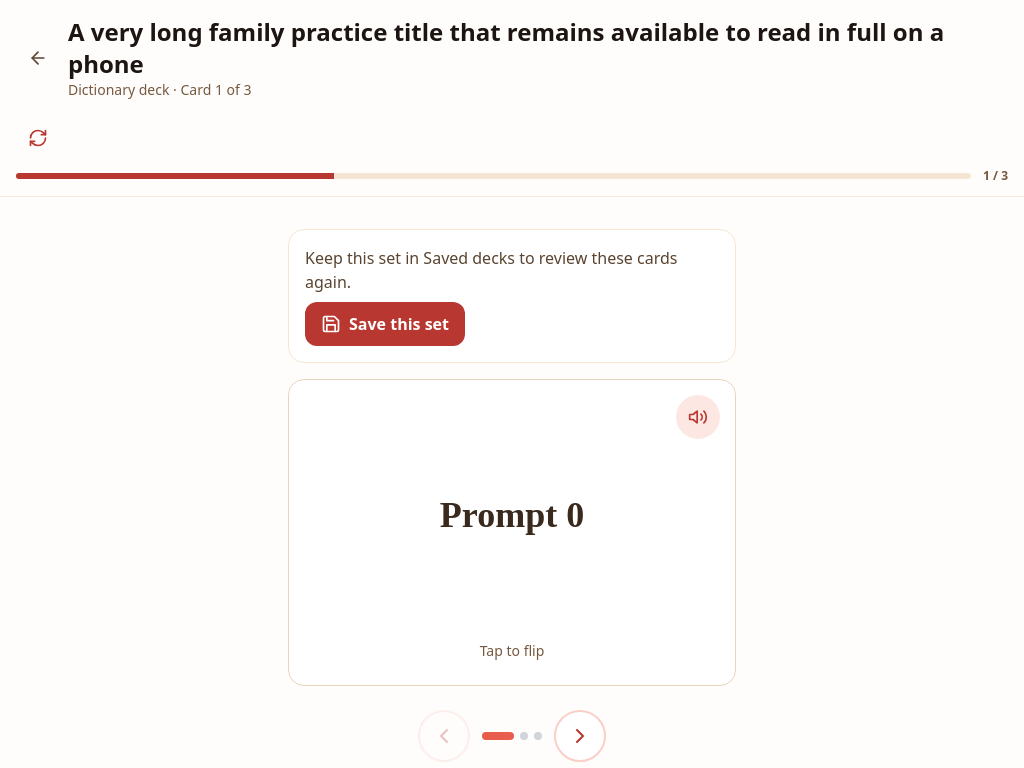
keeps Save disabled through the append delay and saves the committed generated cards
Later steps or results of the test are not shown.
Click the button named "Next flashcard": (580, 736) left=554, top=710, right=606, bottom=762
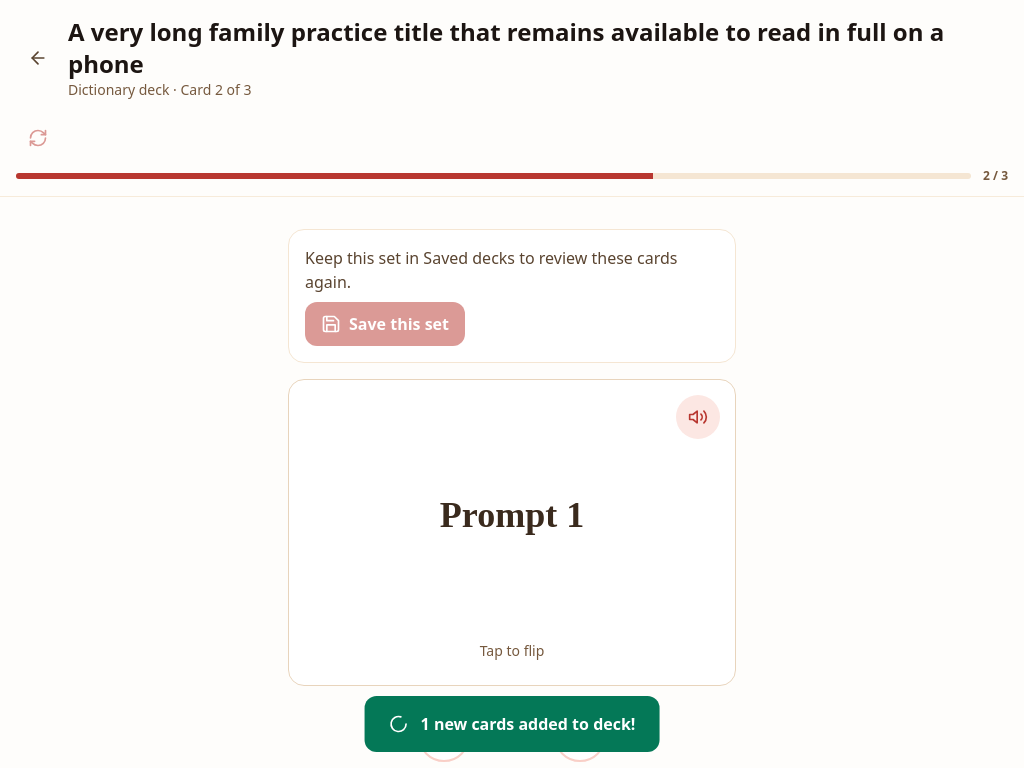
Expected: the button "Save this set" is disabled
Click the button "Save this set": (385, 324) left=305, top=302, right=465, bottom=346
Wait 1000 ms
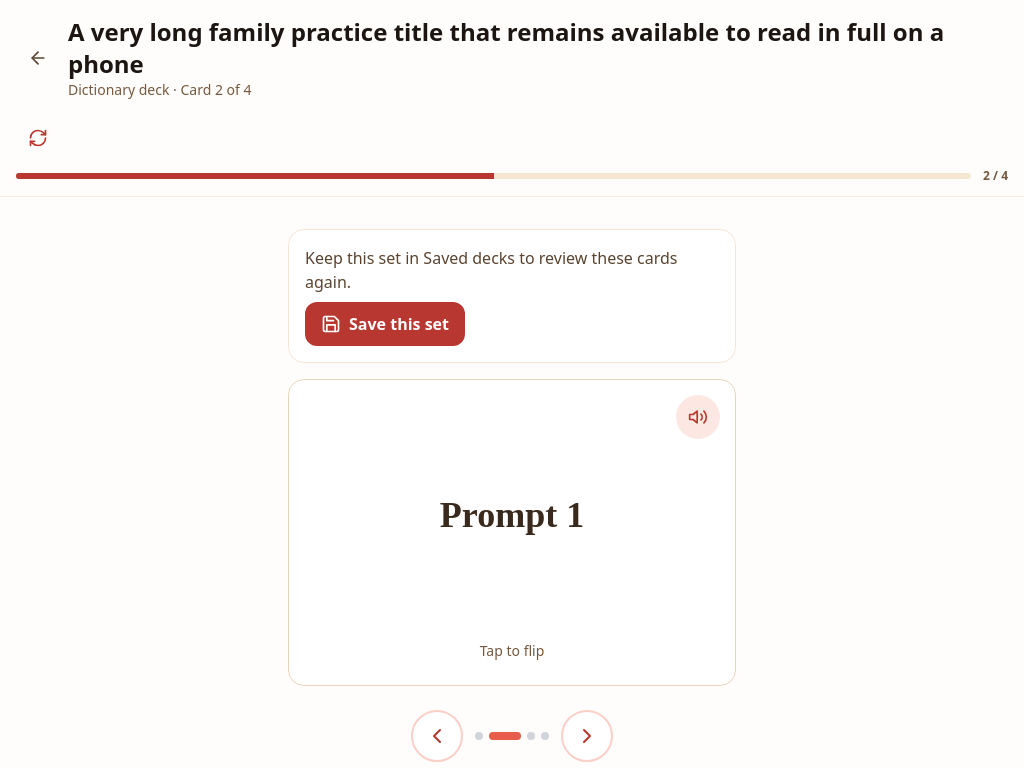
Expected: the button "Save this set" is enabled, left=305, top=302, right=465, bottom=346
